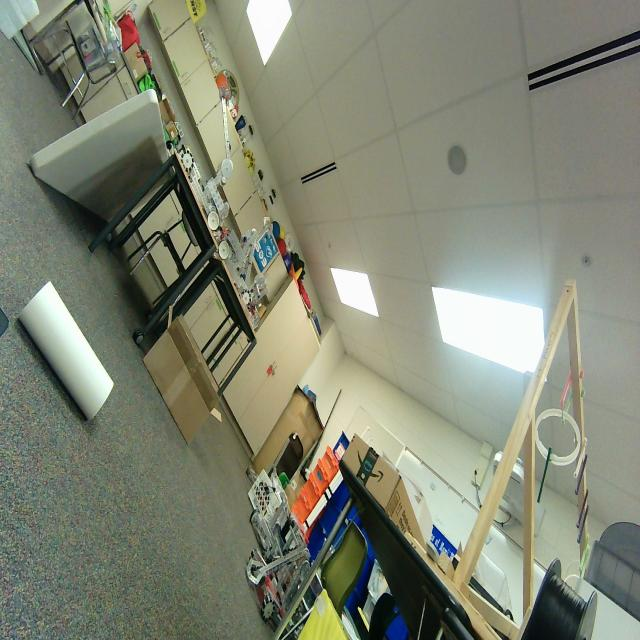coral: (18, 282, 114, 423)
